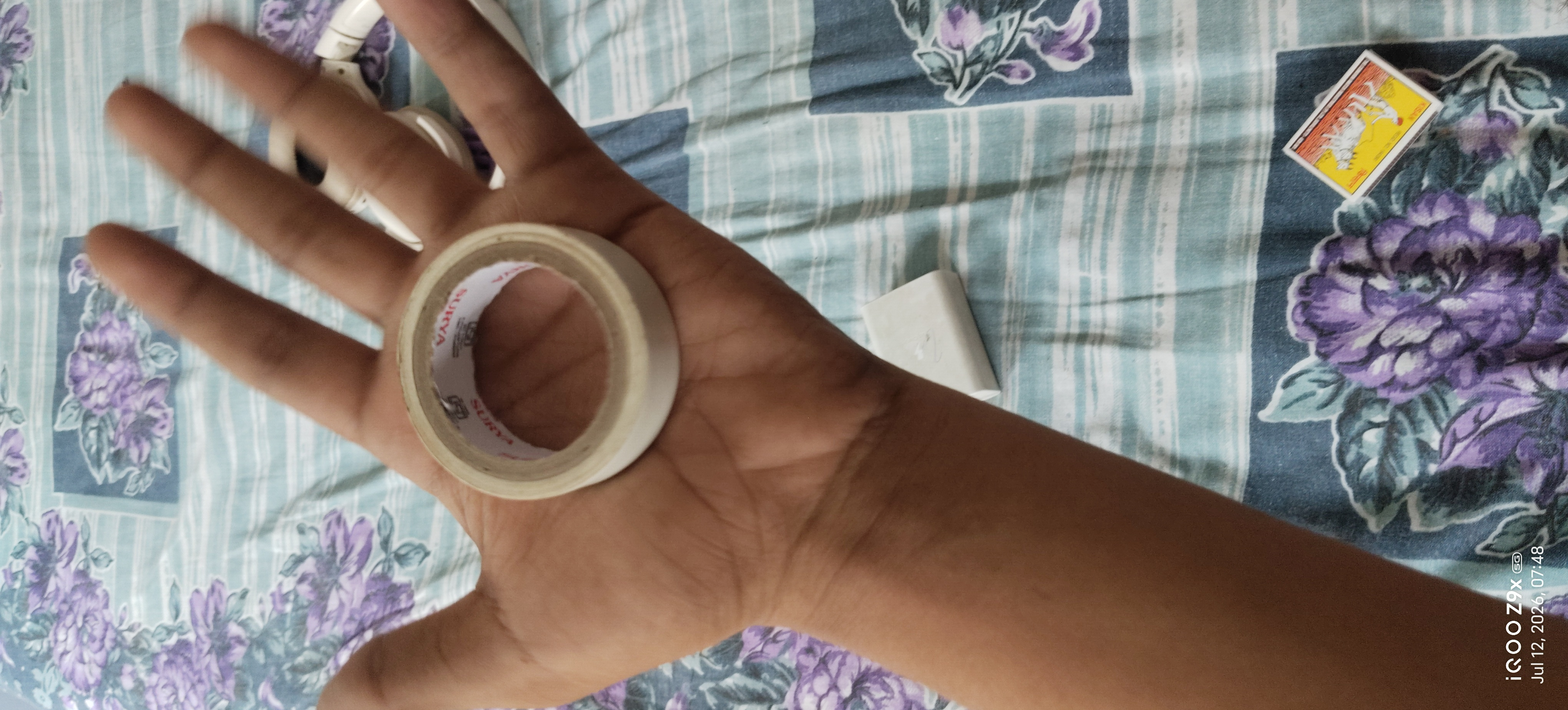charger: (829, 251, 1016, 443)
matchbox: (1274, 45, 1450, 225)
tape_roll: (367, 208, 706, 521)
